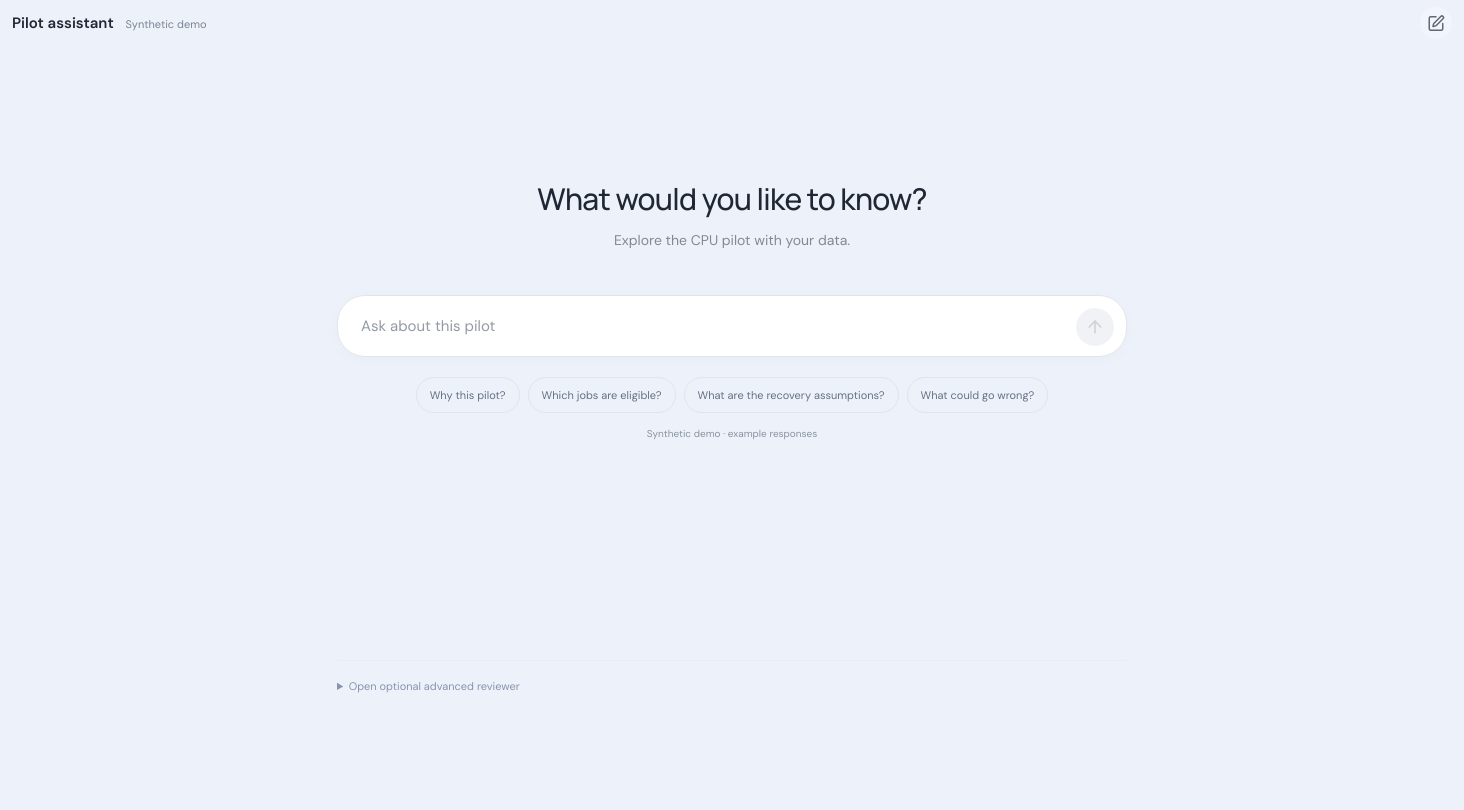
pilot conversation › retains earlier replies and retries a failed turn without duplicating the user message
Click the button "Why this pilot?" at point(468, 395), box [416,377,520,413]
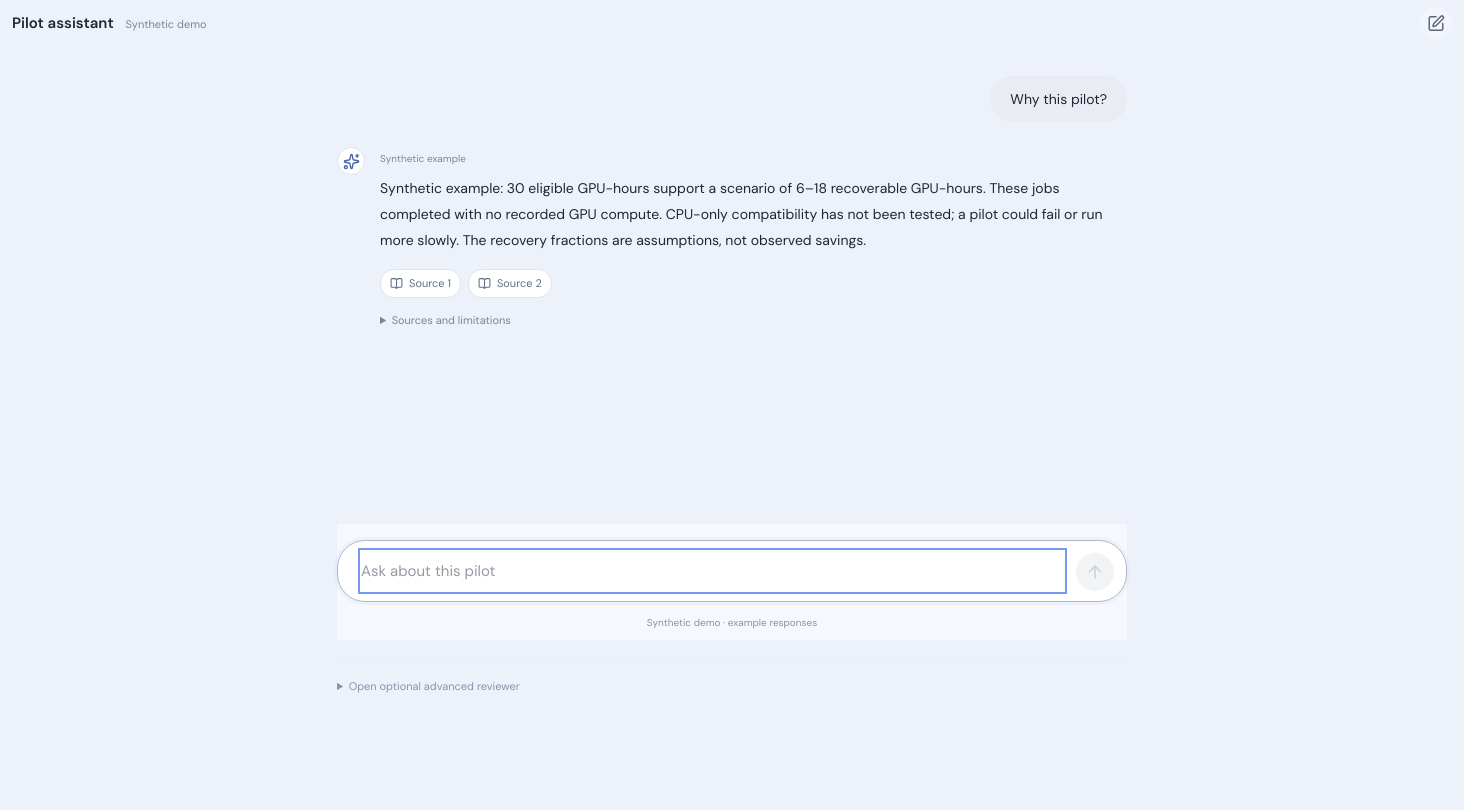
Expected: the text "Synthetic example: 30 eligible" is shown, [380,179,1106,249]
Type "Which jobs are eligible?" into the text box named "Base chat question" at point(712, 571), box [361,551,1064,591]
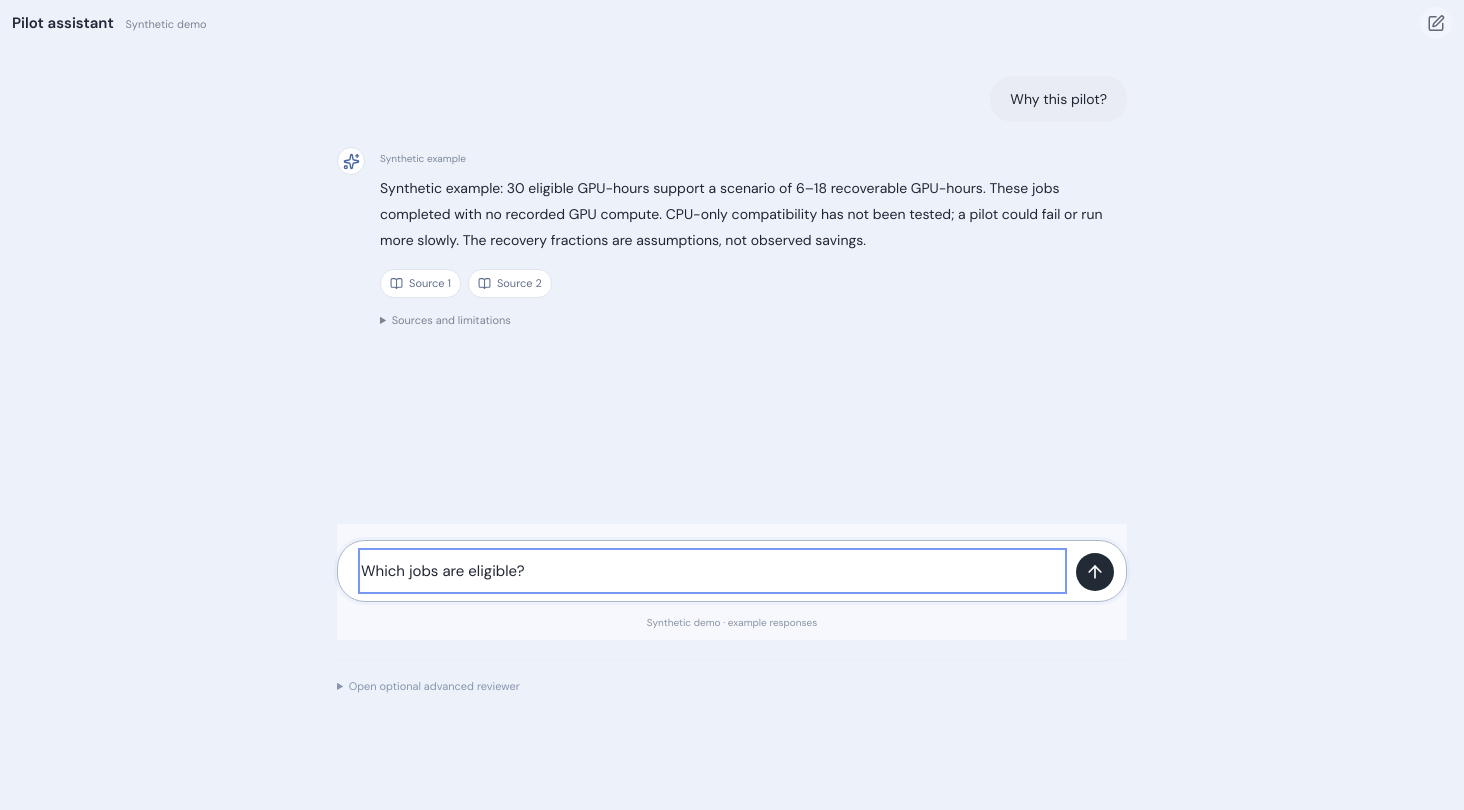
Press Enter in the text box named "Base chat question", box [361,551,1064,591]
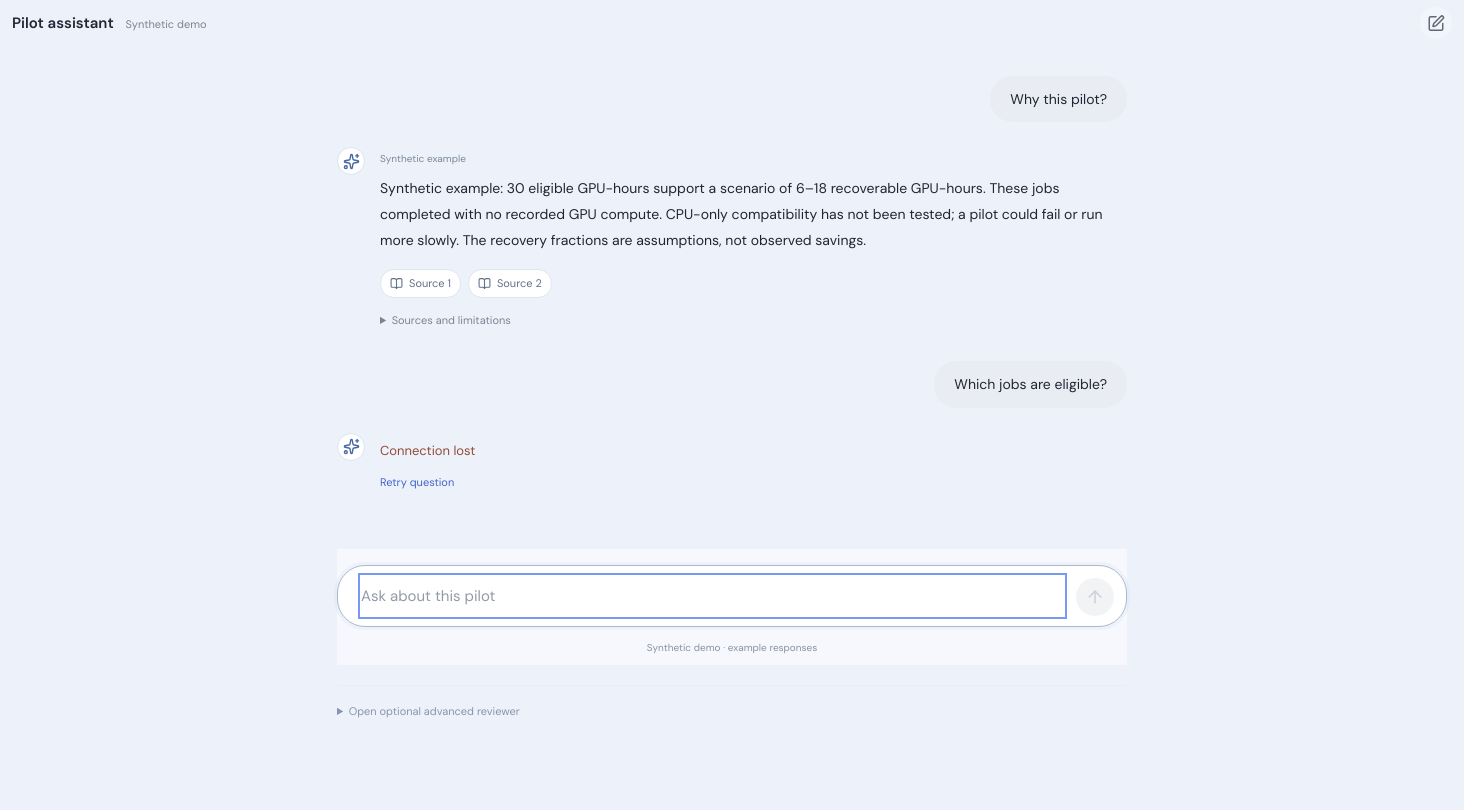
Expected: the text "Synthetic example: 30 eligible" is shown once, [380,176,1127,254]
Expected: the message shows "Connection lost", [380,442,475,459]
Click the button "Retry question" at point(417, 482), box [380,468,454,497]
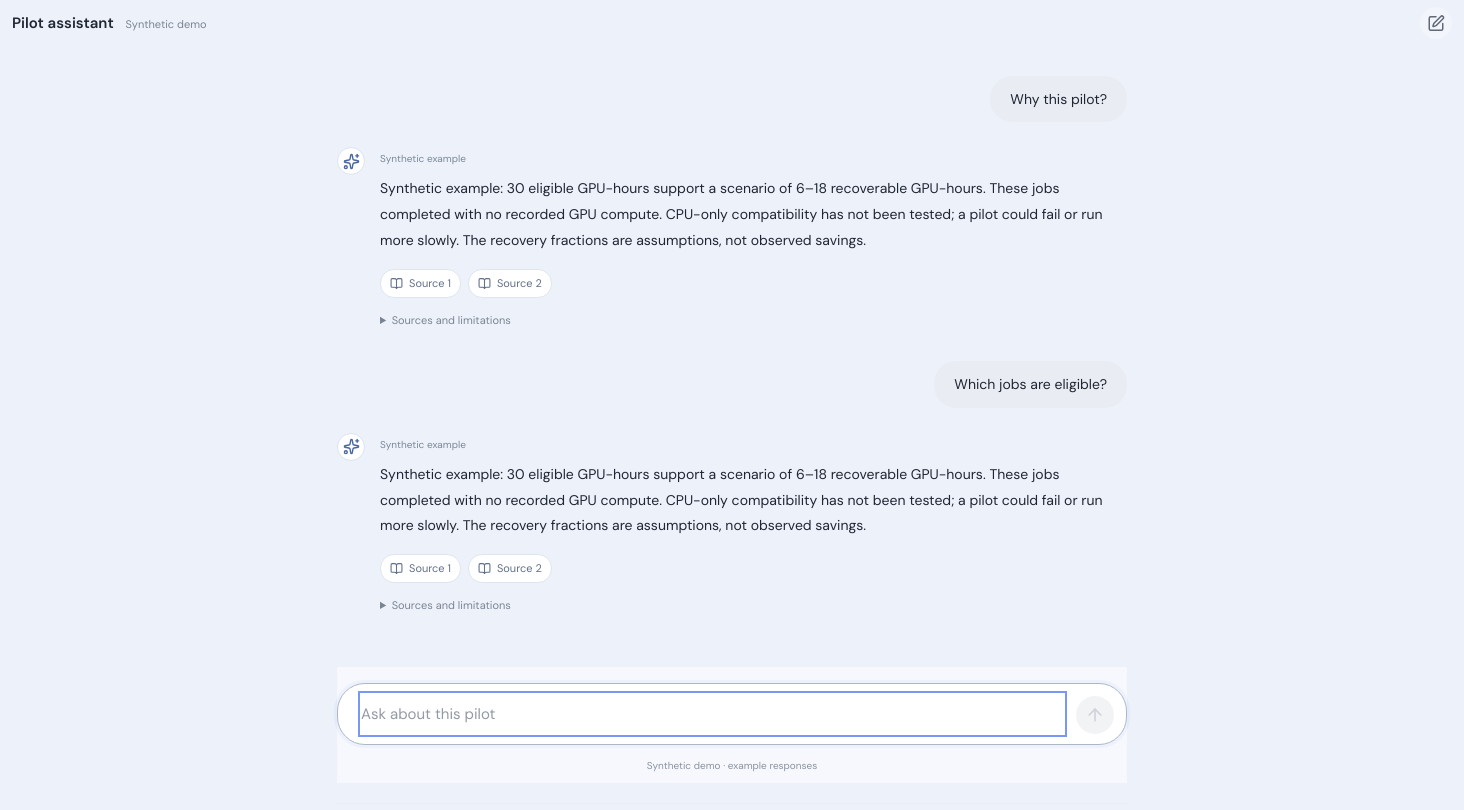
Expected: the text "Which jobs are eligible?" is shown once, [934,361,1127,408]
Expected: the text "Synthetic example: 30 eligible" is shown 2 times, [380,176,1127,254]; [380,462,1127,539]
